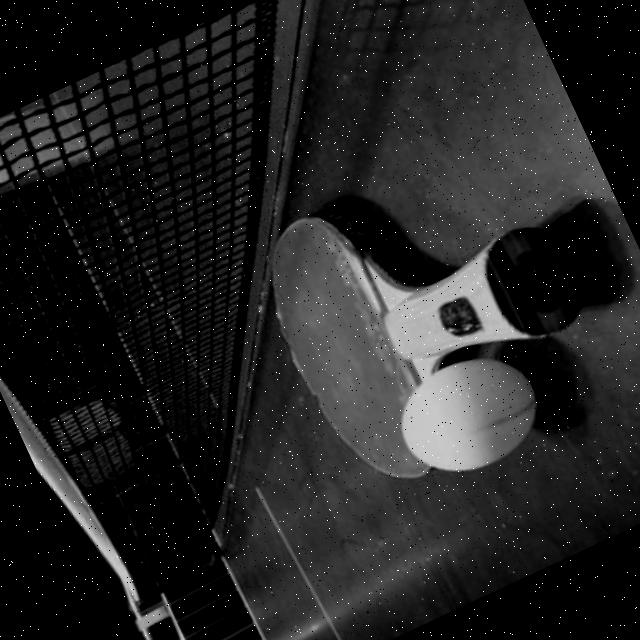ping-pong-ball: (380, 336, 558, 494)
